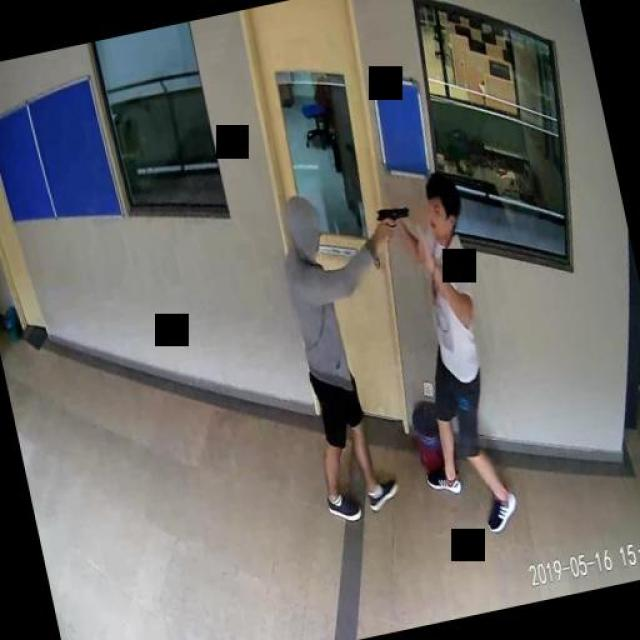gun: (372, 198, 412, 242)
